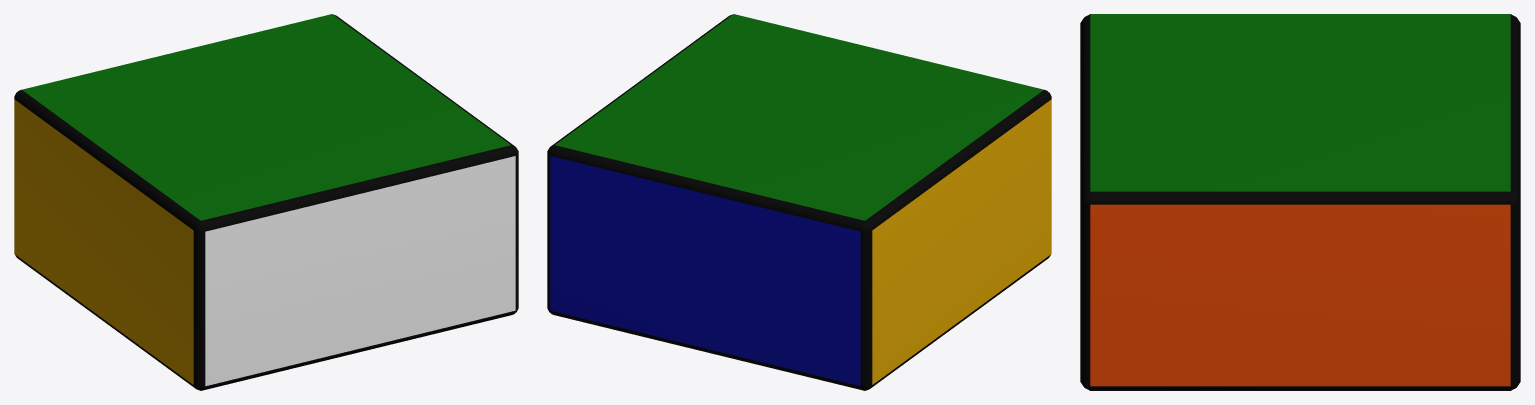
The picture shows the model from 3 angles, left to right: view 1: azimuth 30°, elevation 25°; view 2: azimuth 150°, elevation 25°; view 3: azimuth 270°, elevation 25°; orthographic projection. The views are drawn at different scales.
Parts seen in each view (by area): view 1: 22; view 2: 22; view 3: 22.
Boxes of the visible parts, <box> form: 22: <box>14,14,518,390</box>; 22: <box>547,14,1051,390</box>; 22: <box>1080,14,1520,390</box>.
Bounding box in the file's own units: 20 × 10 × 20.
